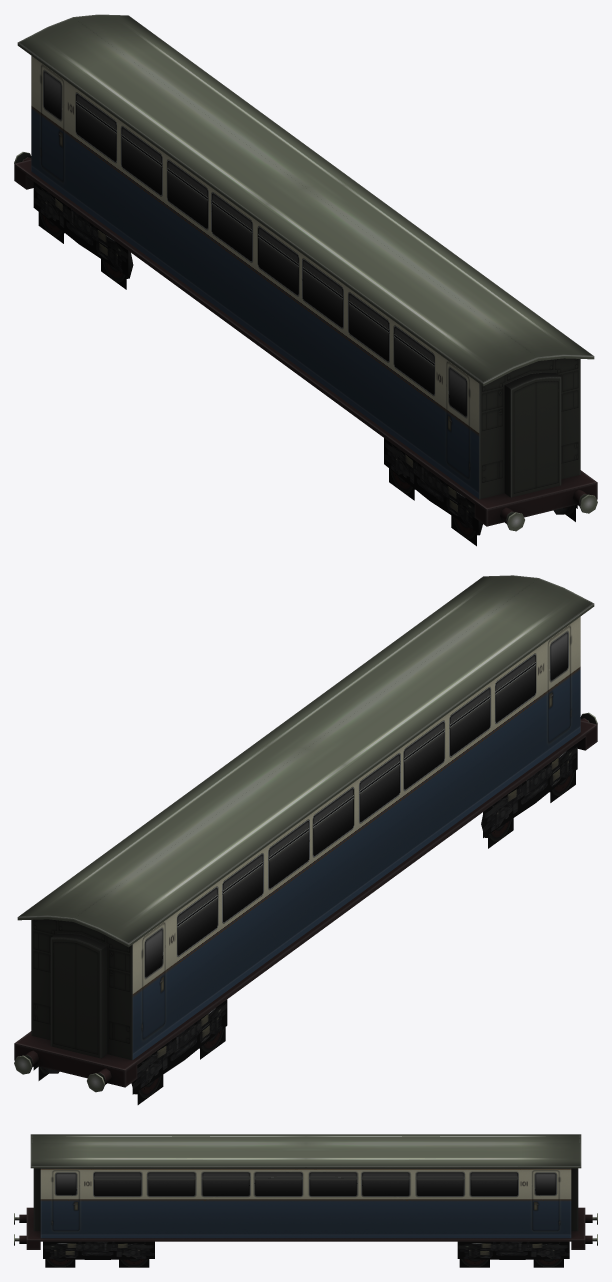
The model's file is Train06_CarriageA.fbx.
3 views of the same model, one above another, from view 1: azimuth 30°, elevation 25°; view 2: azimuth 150°, elevation 25°; view 3: azimuth 270°, elevation 25° (orthographic). The views are drawn at different scales.
Visible parts, largest first — view 1: Empty_Mesh; view 2: Empty_Mesh; view 3: Empty_Mesh.
Boxes of the visible parts, bbox=[...] form: Empty_Mesh: bbox=[14, 14, 597, 546]; Empty_Mesh: bbox=[14, 575, 597, 1104]; Empty_Mesh: bbox=[14, 1134, 597, 1267].
Bounding box in the file's own units: 1.64 × 2.62 × 12.62.
